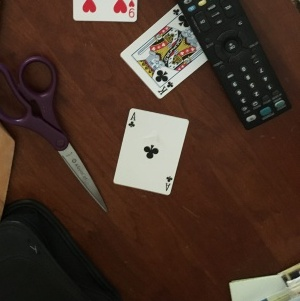card: (120, 22, 215, 99), (111, 106, 190, 195)
